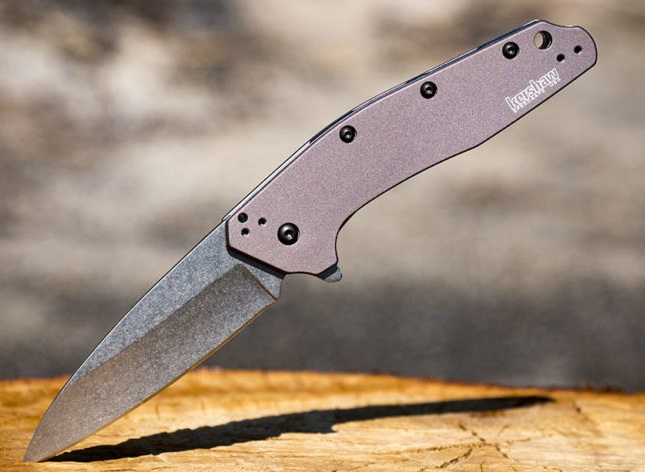knife: (12, 195, 299, 468)
